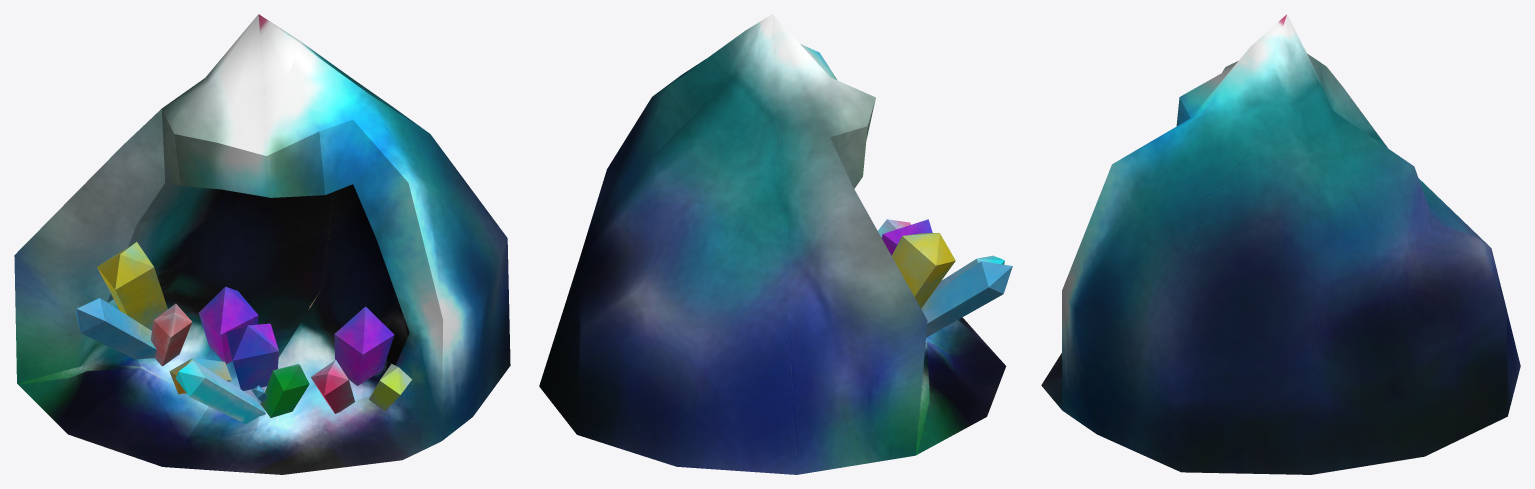
The model's file is CrystalMine.fbx.
The picture shows the model from 3 angles, left to right: view 1: azimuth 30°, elevation 25°; view 2: azimuth 150°, elevation 25°; view 3: azimuth 270°, elevation 25°; orthographic projection.
Visible parts, largest first — view 1: pCone4; view 2: pCone4; view 3: pCone4.
Part boxes in pixels (x1,y1,x2,y2): pCone4: (14,14,510,474); pCone4: (539,14,1012,474); pCone4: (1041,14,1520,474).
Bounding box in the file's own units: 15.28 × 12.79 × 15.35.
